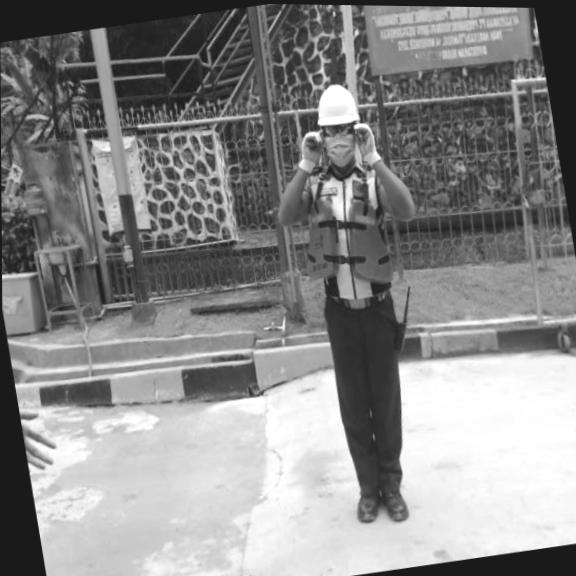safety_vest: (295, 186, 396, 295)
